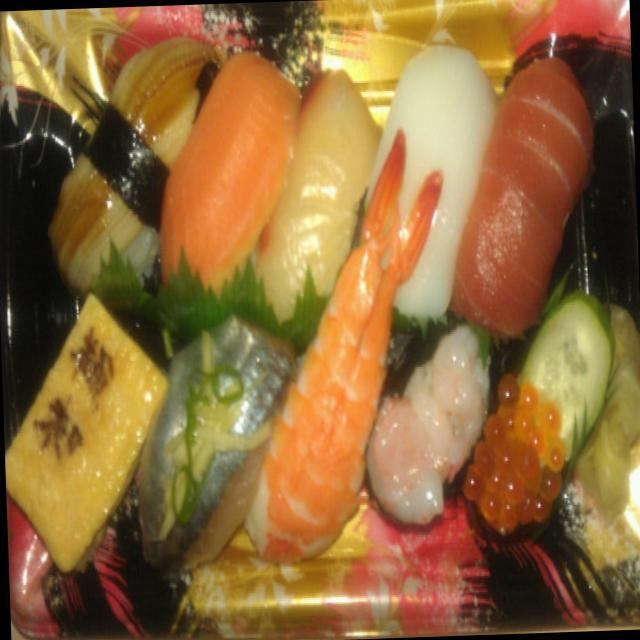Sushi: (152, 19, 625, 351)
